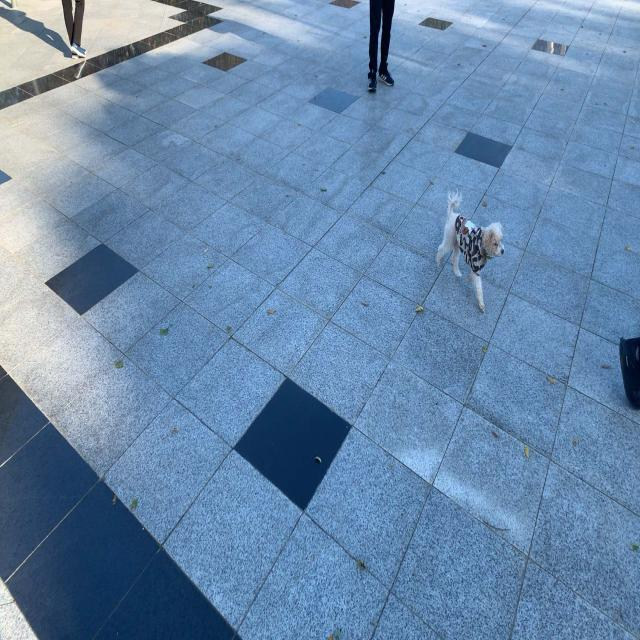Unleashed_Dog: (368, 0, 505, 315)
